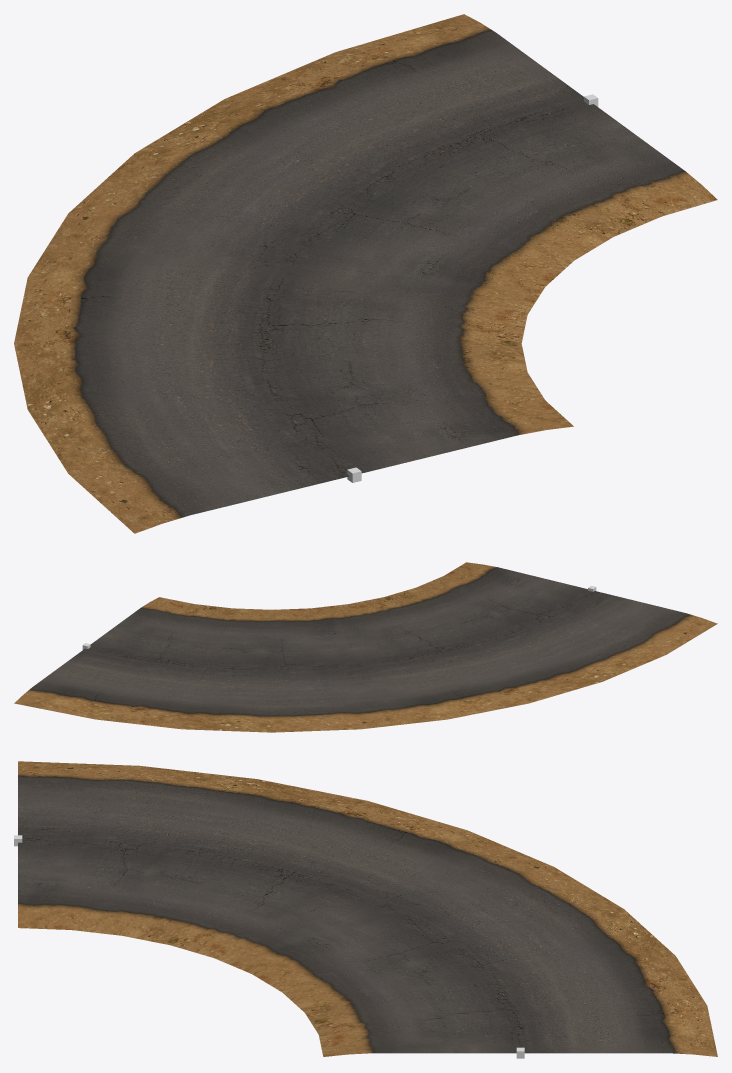
The model's file is roadBend90.R.fbx.
3 renders of one model, top to bottom at view 1: azimuth 30°, elevation 25°; view 2: azimuth 150°, elevation 25°; view 3: azimuth 270°, elevation 25°, orthographic. The views are drawn at different scales.
Visible parts, largest first — view 1: MESH roadBend90.R; view 2: MESH roadBend90.R; view 3: MESH roadBend90.R.
Part boxes in pixels (bbox=[...]): MESH roadBend90.R: bbox=[14, 14, 717, 533]; MESH roadBend90.R: bbox=[14, 562, 717, 732]; MESH roadBend90.R: bbox=[18, 761, 717, 1056].
Size of what is drawn, in the model's own units: 4281 by 50.77 by 4281.
